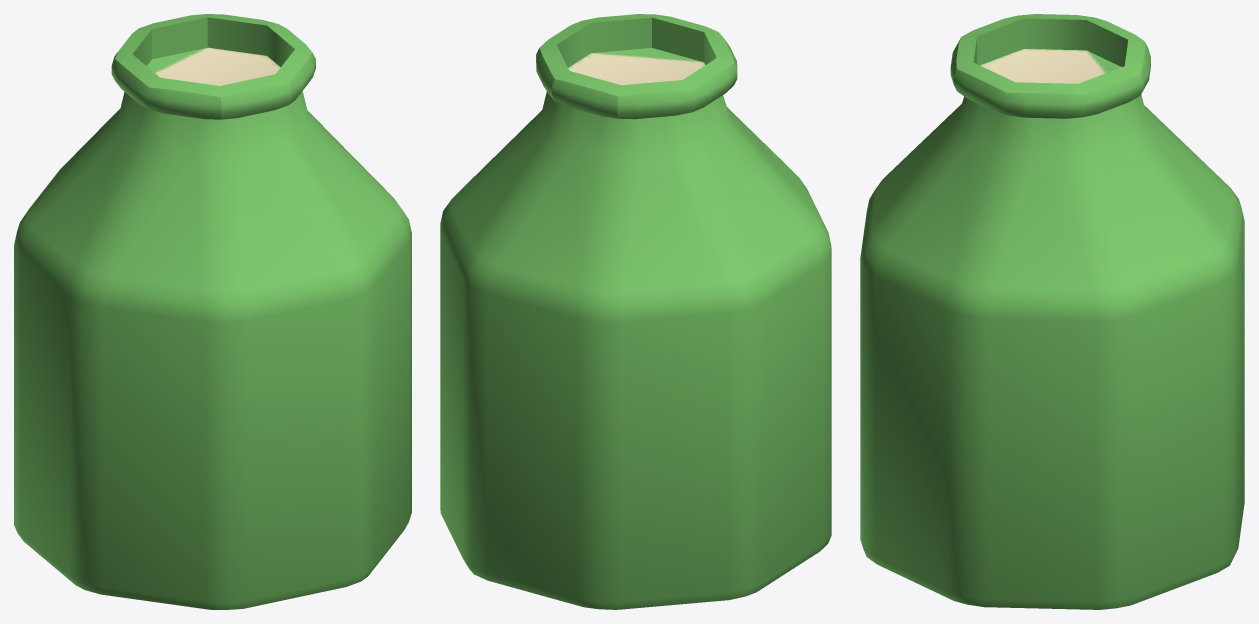
The model's file is Shelf Item (4).fbx.
The picture shows the model from 3 angles, left to right: view 1: azimuth 30°, elevation 25°; view 2: azimuth 150°, elevation 25°; view 3: azimuth 270°, elevation 25°; orthographic projection.
Visible parts, largest first — view 1: Object122; view 2: Object122; view 3: Object122.
Boxes of the visible parts, box(x1,y1,x2,y2) form: Object122: box(14, 14, 411, 609); Object122: box(440, 14, 831, 609); Object122: box(860, 14, 1244, 609).
Bounding box in the file's own units: 8.76 × 12.15 × 8.76.
